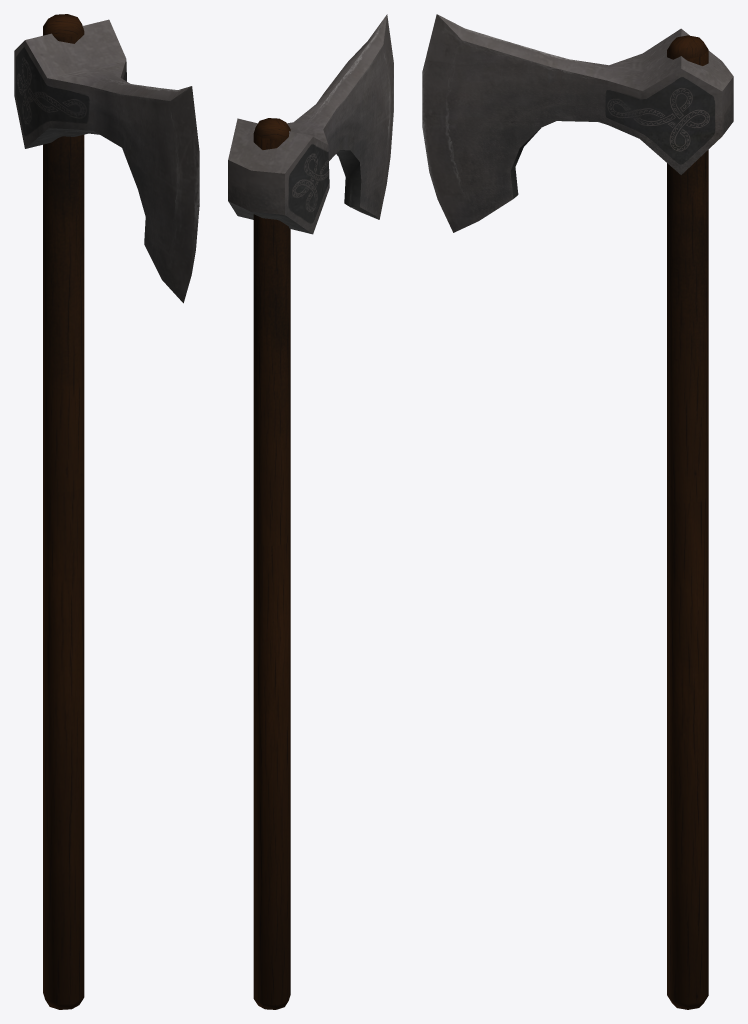
Rendered from Mesh_Axe.FBX.
3 views of the same model, side by side, from view 1: azimuth 30°, elevation 25°; view 2: azimuth 150°, elevation 25°; view 3: azimuth 270°, elevation 25° (orthographic). The views are drawn at different scales.
Parts seen in each view (by area): view 1: Mesh_Axe; view 2: Mesh_Axe; view 3: Mesh_Axe.
Boxes of the visible parts, x1=… form: Mesh_Axe: x1=14, y1=14, x2=199, y2=1009; Mesh_Axe: x1=228, y1=14, x2=393, y2=1009; Mesh_Axe: x1=422, y1=14, x2=733, y2=1009.
Bounding box in the file's own units: 9.13 × 105 × 29.86.
